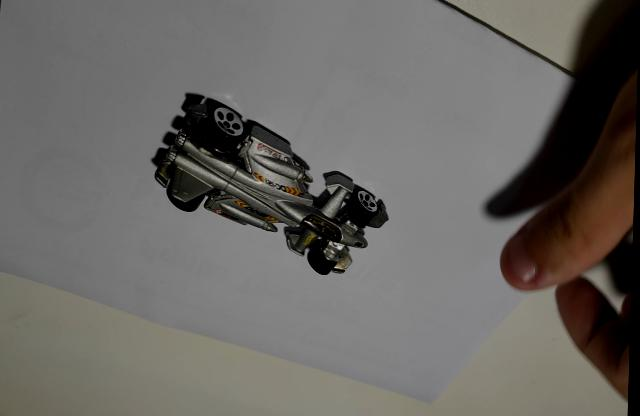05_DC121: (151, 91, 391, 275)
